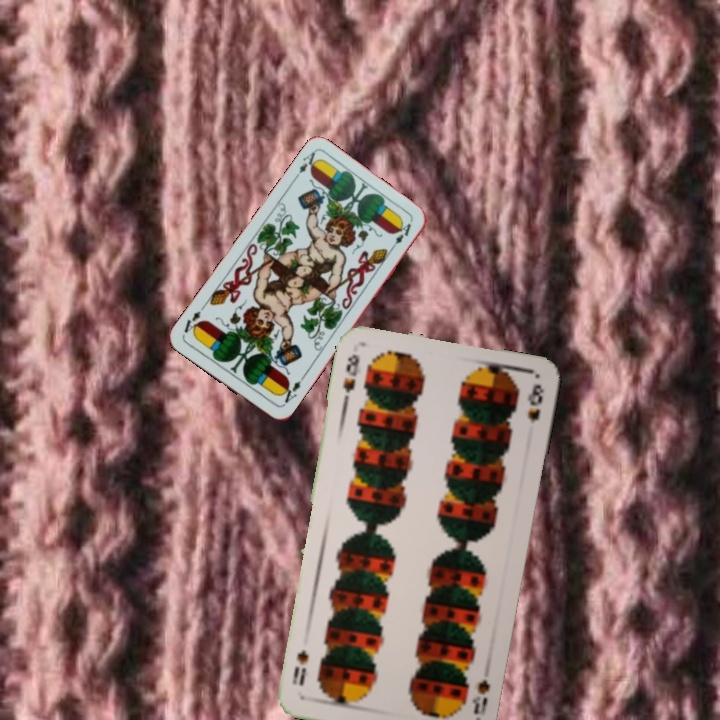EA: (289, 148, 322, 183), (276, 373, 307, 408)
S8: (339, 350, 363, 395), (468, 676, 492, 718)
